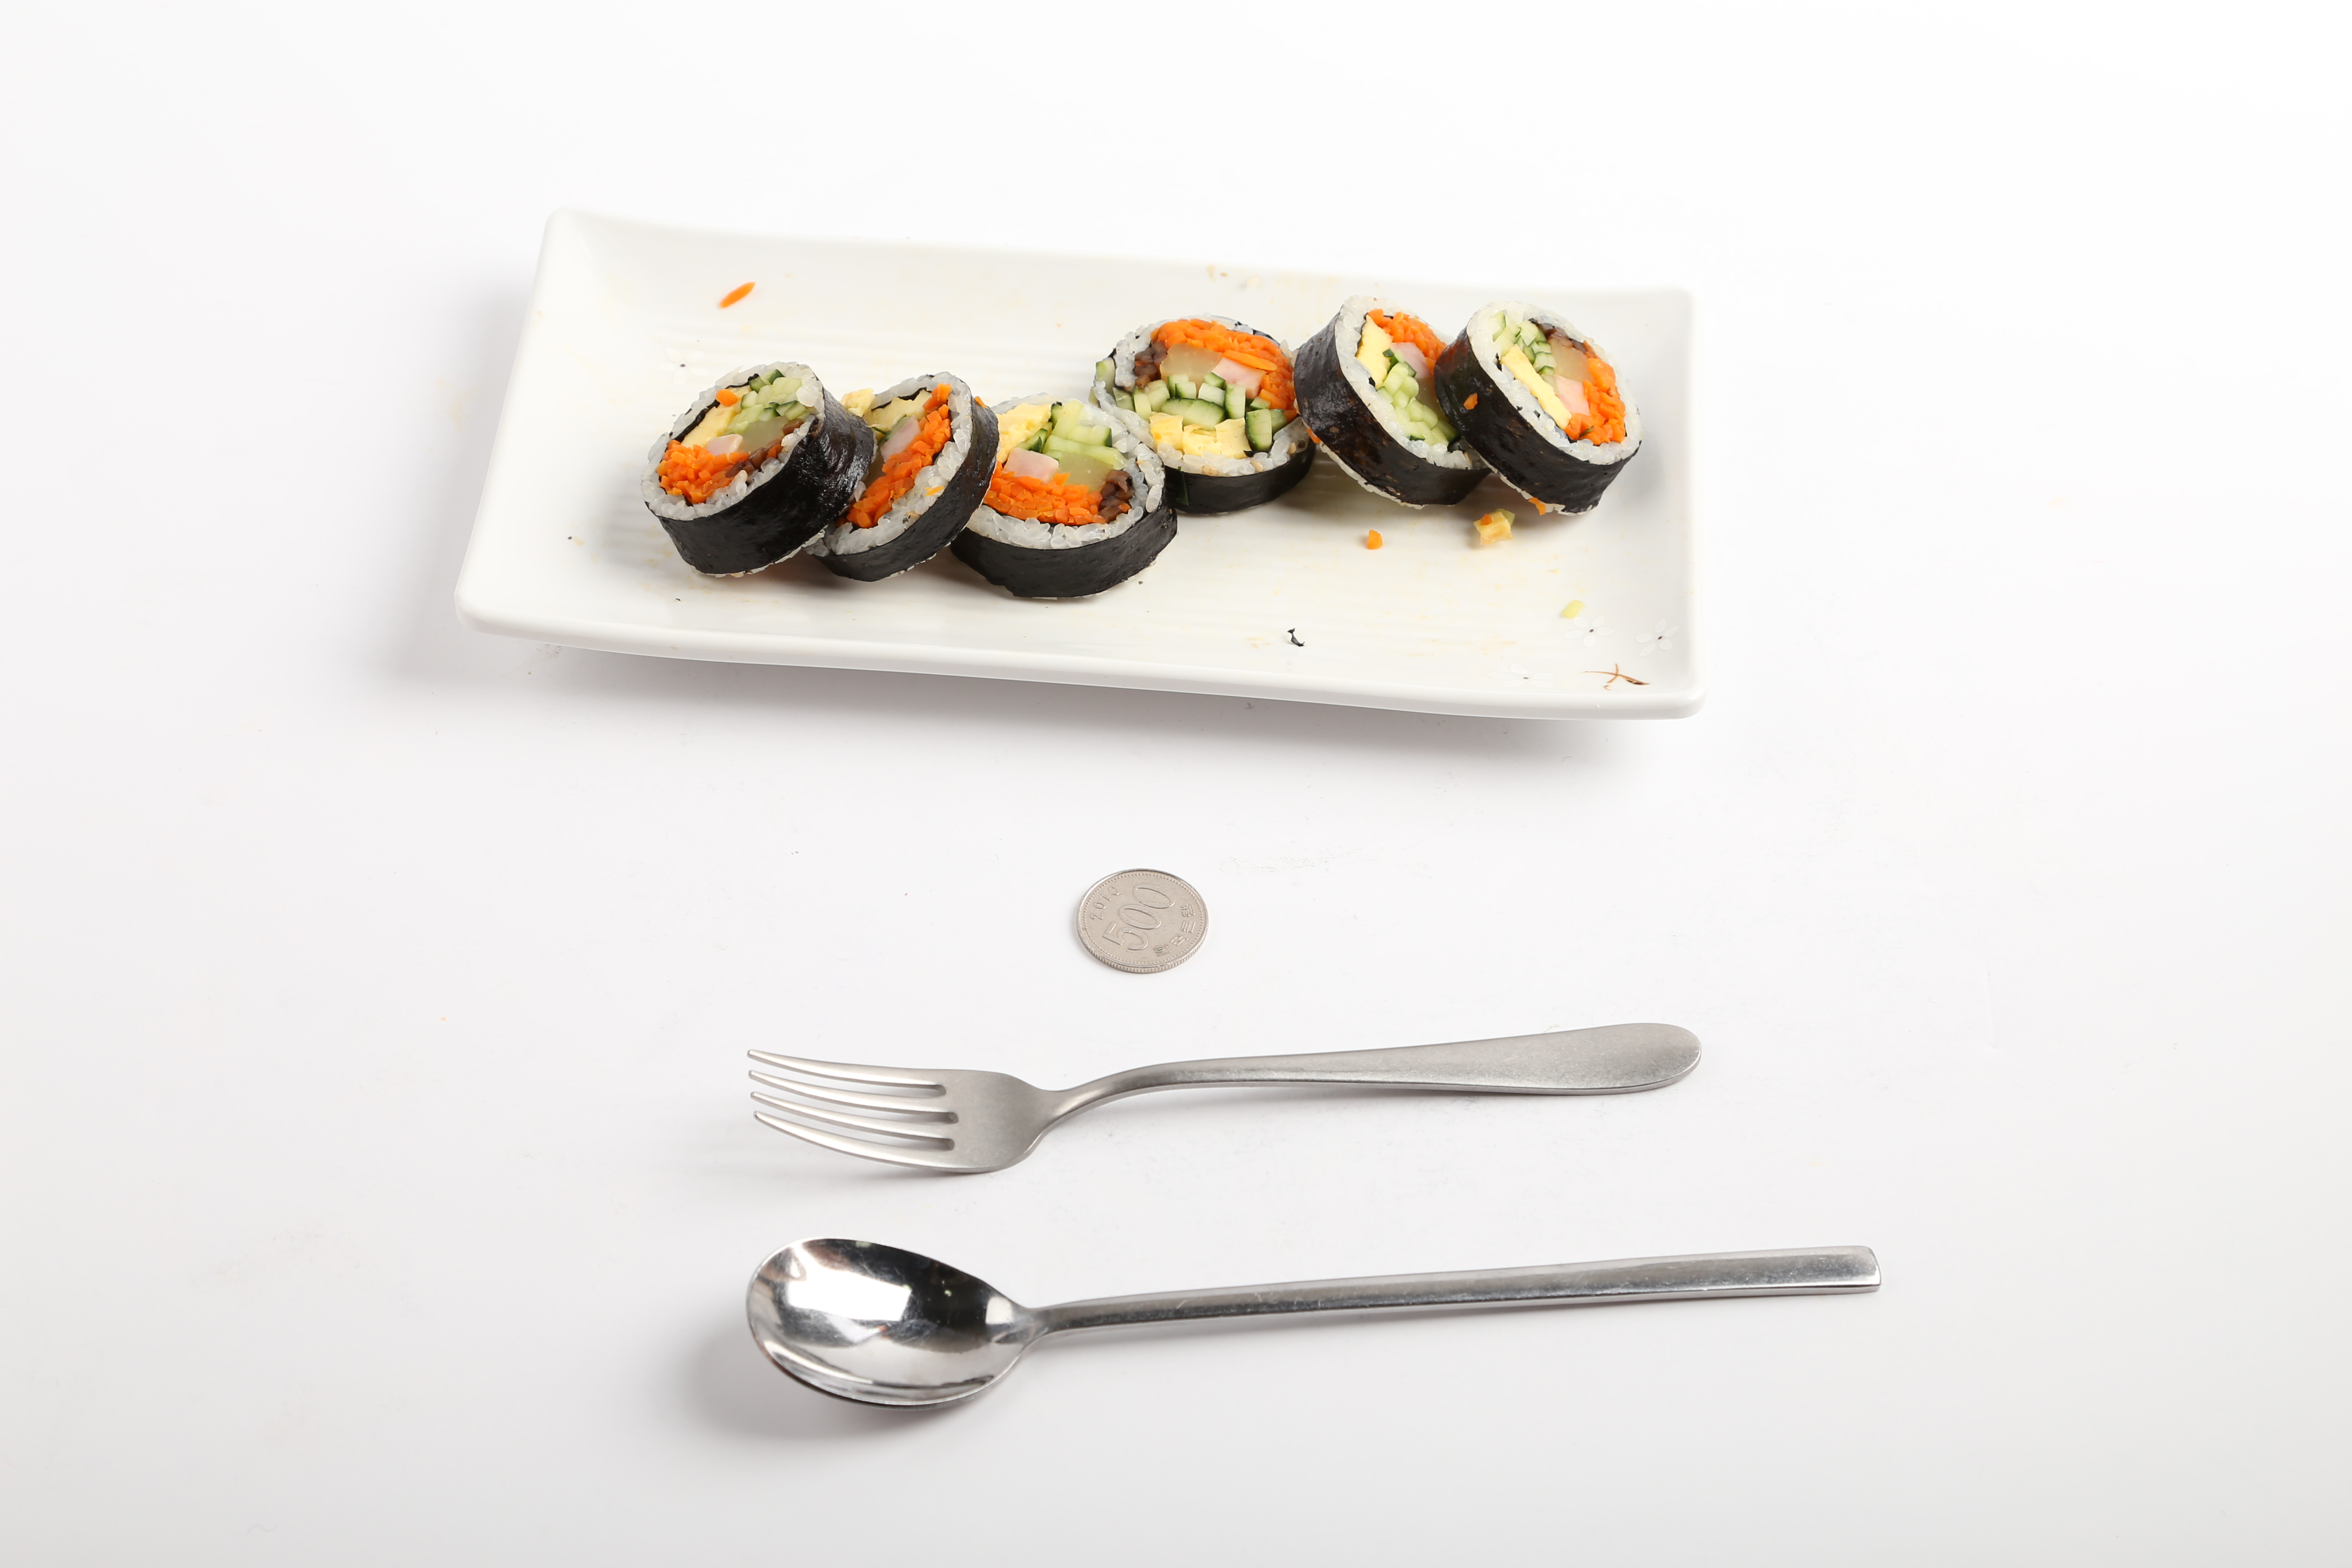dish: (448, 210, 1713, 730)
ref_coin: (1067, 859, 1213, 982)
ref_fork: (745, 1029, 1123, 1176)
ref_spoon: (737, 1228, 1155, 1412)
김밥: (637, 287, 1645, 581)
